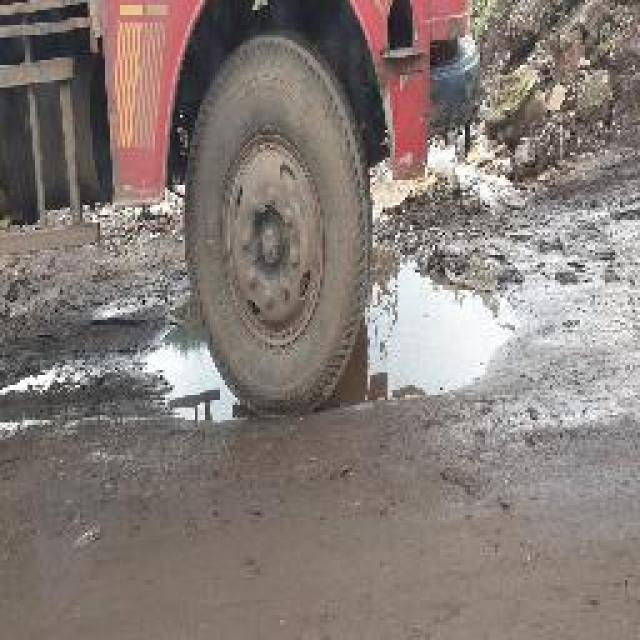stagnation: (367, 260, 546, 423)
